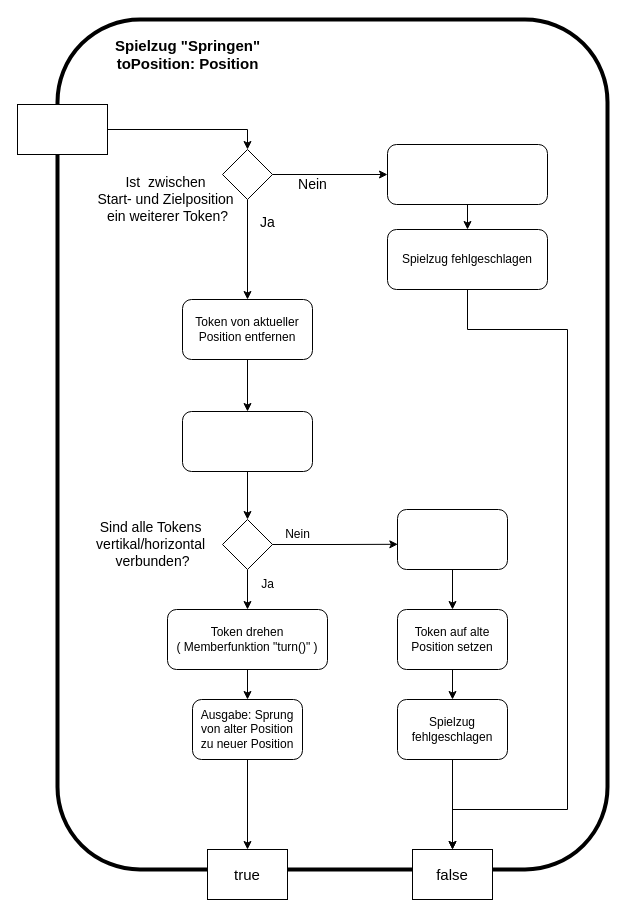
This 627x917 diagram has some shape labels left out. Here are the shapes that lost their labels. From the top down, the centre of each, then its label:
At point (62, 129): "toPosition".
At point (467, 174): "Fehlermeldung: Es darf nur über Tokens gesprungen werden".
At point (247, 441): "Token auf neue Position setzen".
At point (452, 539): "Token von neuer Position entfernen".
